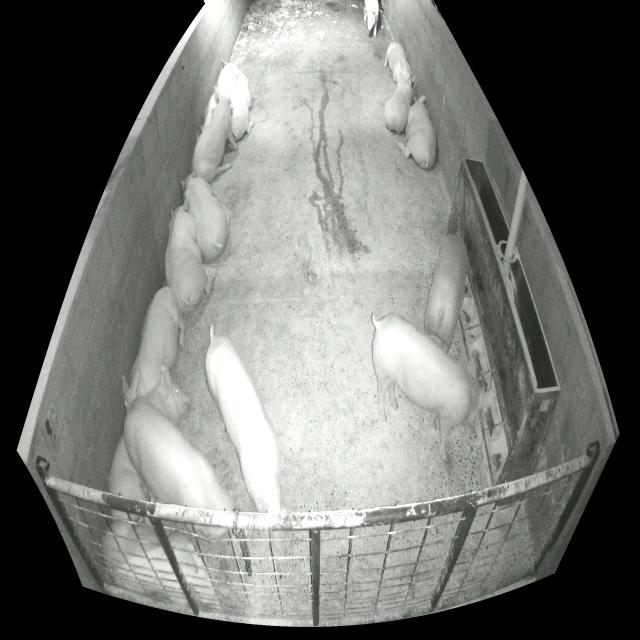pig: (372, 313, 494, 461), (205, 324, 281, 512), (108, 364, 191, 523), (124, 402, 234, 511), (103, 519, 215, 609), (122, 286, 185, 403), (424, 235, 466, 354), (190, 87, 239, 183), (165, 199, 206, 311), (180, 170, 228, 260), (214, 59, 254, 142), (397, 95, 436, 169), (384, 72, 414, 133), (384, 42, 411, 86), (200, 95, 215, 132), (364, 0, 379, 37)
